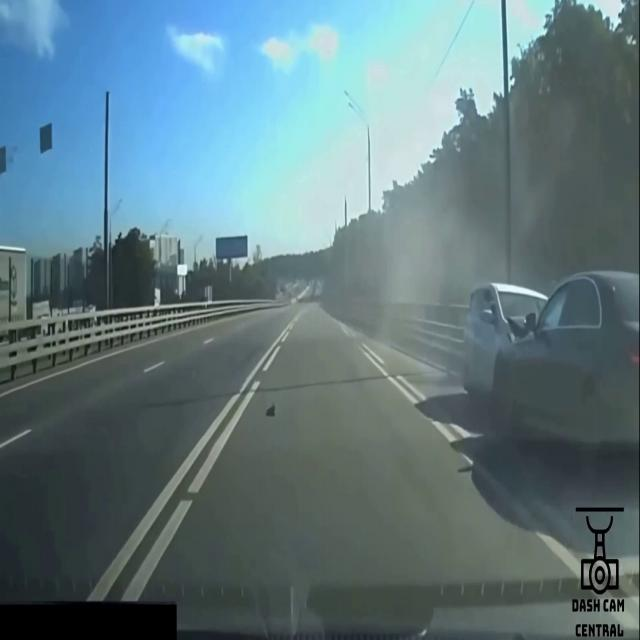accident: (466, 270, 640, 448)
